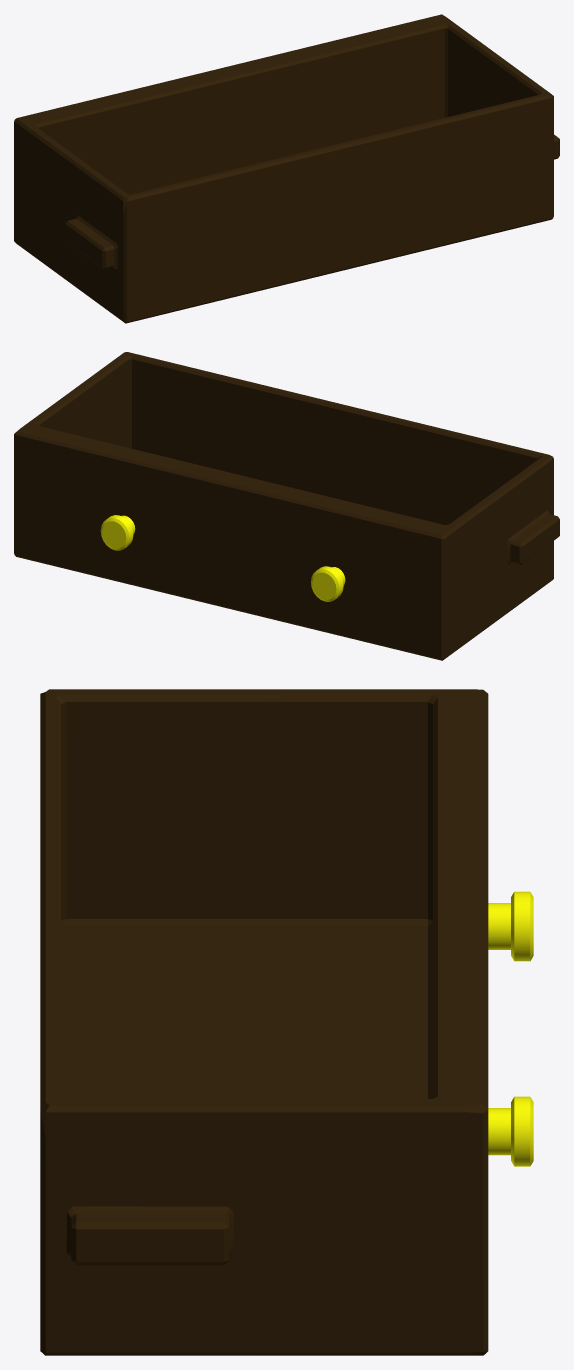
The model's file is Drawer2.obj.
3 views of the same model, one above another, from view 1: azimuth 30°, elevation 25°; view 2: azimuth 150°, elevation 25°; view 3: azimuth 270°, elevation 25° (orthographic). The views are drawn at different scales.
Parts seen in each view (by area): view 1: Drawer2; view 2: Drawer2; view 3: Drawer2.
Boxes of the visible parts, x1,y1,x2,y2 form: Drawer2: (14,14,559,323); Drawer2: (14,352,559,660); Drawer2: (40,689,533,1355).
Size of the model in its own units: 7.43 by 1.94 by 3.46.
